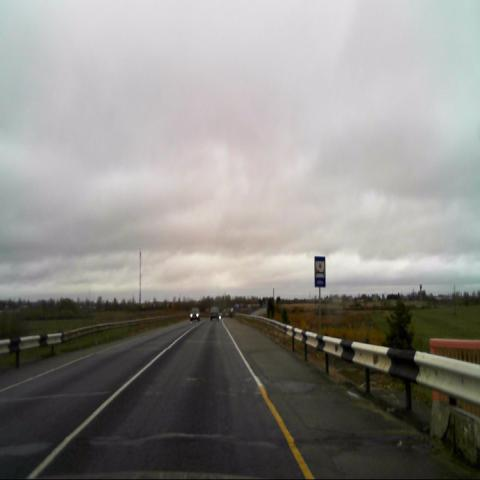7_2: (314, 255, 326, 288)
